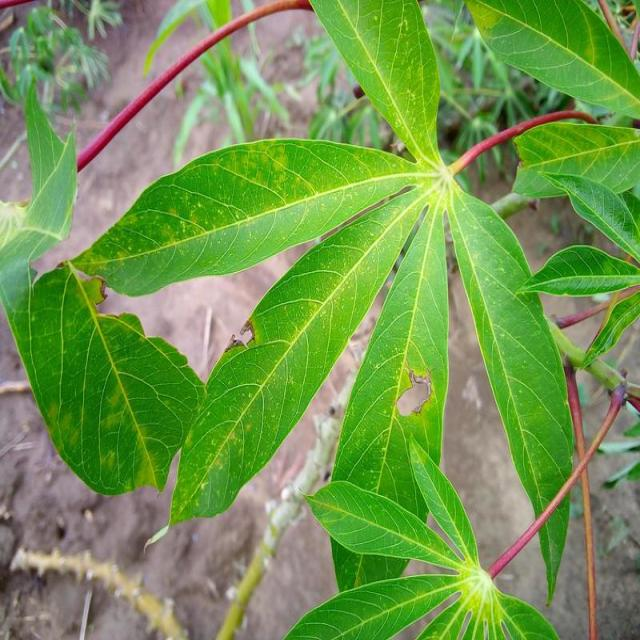cassava leaf: (2, 1, 638, 636), (145, 182, 430, 548), (59, 136, 423, 298), (445, 180, 575, 603), (15, 259, 206, 496), (308, 0, 442, 170), (464, 0, 638, 121)
